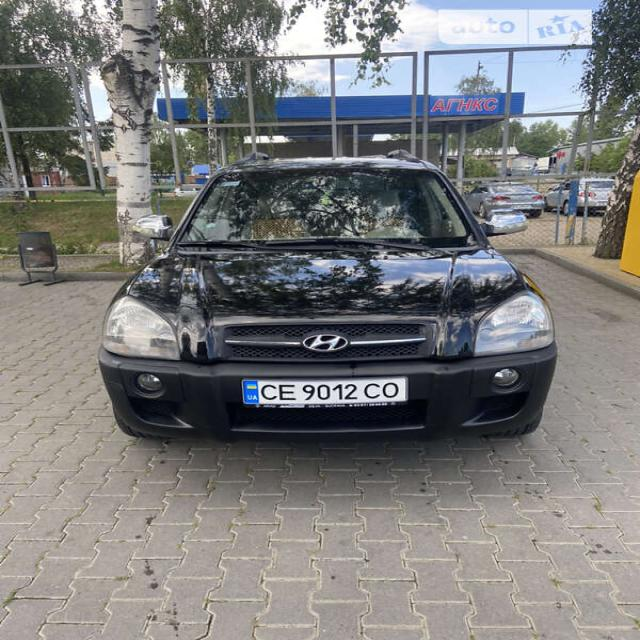plate: (240, 374, 412, 415)
